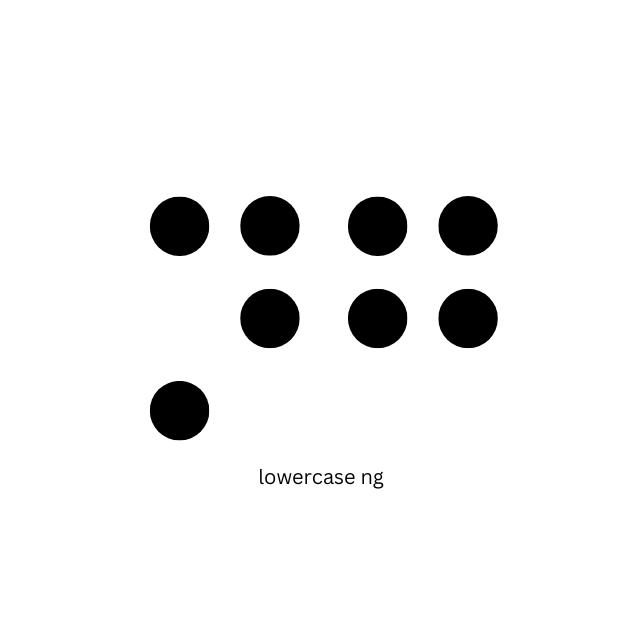letter_g: (346, 192, 500, 440)
letter_n: (147, 193, 301, 442)
